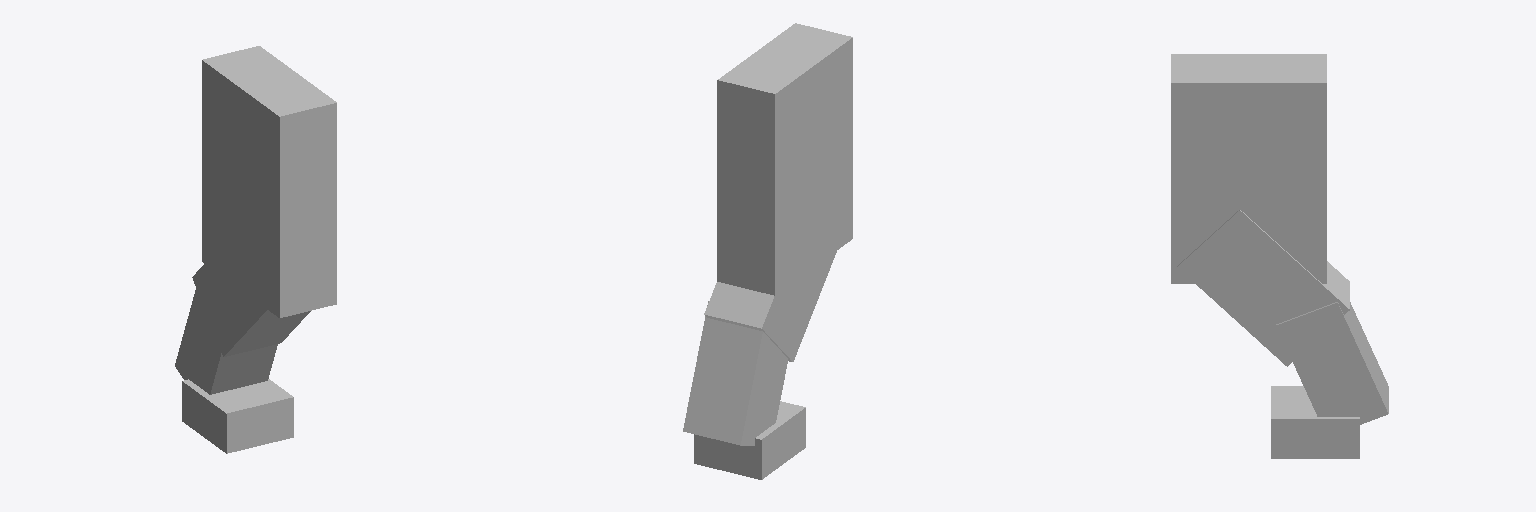
Rendered from tiger_hind_right_leg.obj.
3 renders of one model, left to right at view 1: azimuth 30°, elevation 25°; view 2: azimuth 150°, elevation 25°; view 3: azimuth 270°, elevation 25°, orthographic.
Visible parts, largest first — view 1: Element #11, Element #1, Element #10, Element #12; view 2: Element #11, Element #12, Element #10, Element #1; view 3: Element #11, Element #10, Element #12, Element #1.
Part boxes in pixels (left/top/right/bottom): Element #11: left=202, top=46, right=336, bottom=317; Element #1: left=182, top=379, right=293, bottom=453; Element #10: left=192, top=264, right=310, bottom=356; Element #12: left=175, top=289, right=277, bottom=394; Element #11: left=717, top=23, right=852, bottom=295; Element #12: left=683, top=301, right=787, bottom=445; Element #10: left=704, top=251, right=836, bottom=361; Element #1: left=694, top=401, right=805, bottom=479; Element #11: left=1171, top=54, right=1326, bottom=283; Element #10: left=1177, top=210, right=1349, bottom=366; Element #12: left=1276, top=302, right=1388, bottom=424; Element #1: left=1271, top=386, right=1359, bottom=458.
Bounding box in the file's own units: 3.5 × 18.5 × 9.77.